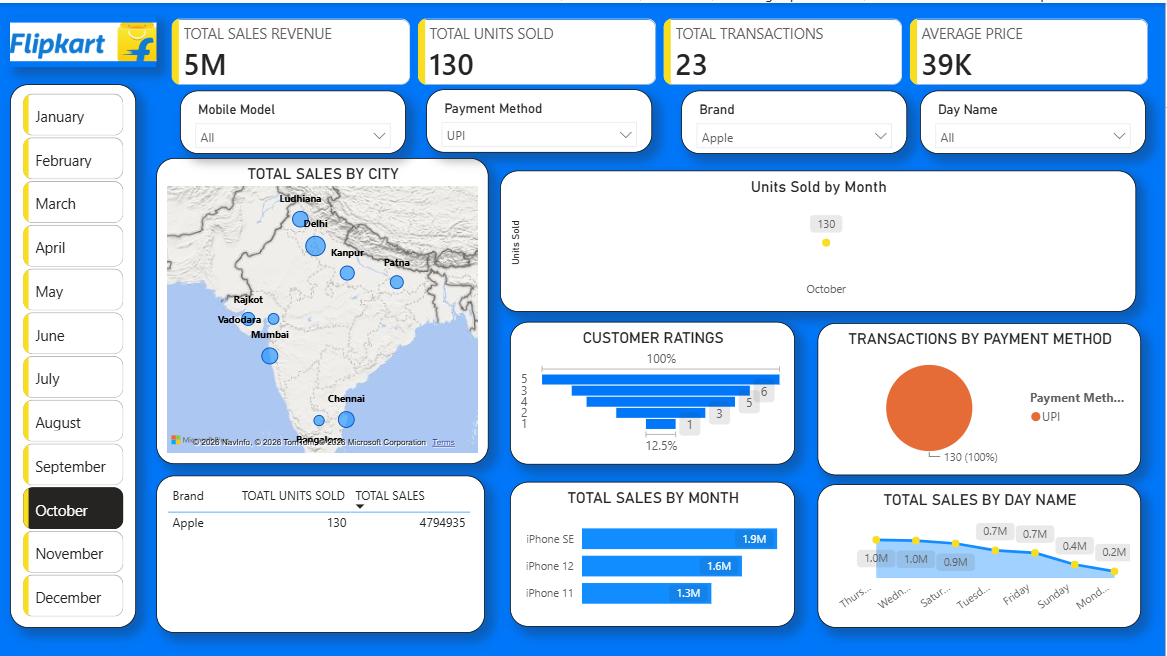

The page's visual inventory and layout, read from the dashboard file:
{"tool":"powerbi","page":{"name":"Page 1","canvas":[1280,720],"ordinal":0},"visuals":[{"type":"image","box":[11,15.1,160.5,54.9],"z":0},{"type":"shape","box":[11,89.2,138.6,596.9],"z":1000},{"type":"advancedSlicerVisual","fields":{"Values":["mobile_sales_data.Date.Variation.Date Hierarchy.Month"]},"box":[20.6,94.7,120.8,585.9],"z":2000},{"type":"cardVisual","fields":{"Data":["mobile_sales_data.total_sales","mobile_sales_data.total_units_sold","mobile_sales_data.transactions","mobile_sales_data.Average_price"]},"box":[171.5,0,1108.8,107],"z":3000},{"type":"map","title":"TOTAL SALES BY CITY","fields":{"Category":["mobile_sales_data.City"],"Size":["mobile_sales_data.total_sales"]},"box":[171.5,170.2,365,336.2],"z":4000},{"type":"lineChart","fields":{"Y":["mobile_sales_data.total_units_sold"],"Category":["mobile_sales_data.Date.Variation.Date Hierarchy.Month","mobile_sales_data.Date.Variation.Date Hierarchy.Day"]},"box":[548.9,183.9,698.5,155.1],"z":5000},{"type":"clusteredBarChart","title":"TOTAL SALES BY MONTH","fields":{"Category":["mobile_sales_data.Mobile Model"],"Y":["mobile_sales_data.total_sales"]},"box":[559.9,525.6,312.9,159.2],"z":6000},{"type":"pieChart","title":"TRANSACTIONS BY PAYMENT METHOD","fields":{"Y":["mobile_sales_data.total_units_sold"],"Category":["mobile_sales_data.Payment Method"]},"box":[897.4,351.3,355.4,167.4],"z":7000},{"type":"funnel","title":"CUSTOMER RATINGS","fields":{"Category":["mobile_sales_data.Customer Ratings"],"Y":["CountNonNull(mobile_sales_data.Customer Ratings)"]},"box":[559.9,349.9,312.9,156.4],"z":8000},{"type":"areaChart","title":"TOTAL SALES BY DAY NAME","fields":{"Y":["mobile_sales_data.total_sales"],"Category":["mobile_sales_data.Day Name"]},"box":[897.4,528.3,355.4,157.8],"z":9000},{"type":"tableEx","fields":{"Values":["mobile_sales_data.Brand","mobile_sales_data.total_units_sold","mobile_sales_data.total_sales"]},"box":[171.5,518.7,360.9,172.9],"z":10000},{"type":"slicer","fields":{"Values":["mobile_sales_data.Mobile Model"]},"box":[197.6,96.1,248.4,70],"z":11000},{"type":"slicer","fields":{"Values":["mobile_sales_data.Payment Method"]},"box":[467.9,94.7,248.4,70],"z":12000},{"type":"slicer","fields":{"Values":["mobile_sales_data.Brand"]},"box":[747.9,96.1,248.4,70],"z":13000},{"type":"slicer","fields":{"Values":["mobile_sales_data.Day Name"]},"box":[1010,96.1,248.4,70],"z":14000}]}

Visuals, with their boxes in screenshot pixels (x1, y1, x2, y2), scaled from the page's 1280x720 canvas onto the 1167x656 screenshot:
image: pyautogui.locateOnScreen(10, 14, 156, 64)
shape: pyautogui.locateOnScreen(10, 81, 136, 625)
advancedSlicerVisual - mobile_sales_data.Date.Variation.Date Hierarchy.Month: pyautogui.locateOnScreen(19, 86, 129, 620)
cardVisual - mobile_sales_data.total_sales x mobile_sales_data.total_units_sold: pyautogui.locateOnScreen(156, 0, 1166, 97)
"TOTAL SALES BY CITY" map: pyautogui.locateOnScreen(156, 155, 489, 461)
lineChart - mobile_sales_data.total_units_sold x mobile_sales_data.Date.Variation.Date Hierarchy.Month: pyautogui.locateOnScreen(500, 168, 1137, 309)
"TOTAL SALES BY MONTH" clusteredBarChart: pyautogui.locateOnScreen(510, 479, 796, 624)
"TRANSACTIONS BY PAYMENT METHOD" pieChart: pyautogui.locateOnScreen(818, 320, 1142, 473)
"CUSTOMER RATINGS" funnel: pyautogui.locateOnScreen(510, 319, 796, 461)
"TOTAL SALES BY DAY NAME" areaChart: pyautogui.locateOnScreen(818, 481, 1142, 625)
tableEx - mobile_sales_data.Brand x mobile_sales_data.total_units_sold: pyautogui.locateOnScreen(156, 473, 485, 630)
slicer - mobile_sales_data.Mobile Model: pyautogui.locateOnScreen(180, 88, 407, 151)
slicer - mobile_sales_data.Payment Method: pyautogui.locateOnScreen(427, 86, 653, 150)
slicer - mobile_sales_data.Brand: pyautogui.locateOnScreen(682, 88, 908, 151)
slicer - mobile_sales_data.Day Name: pyautogui.locateOnScreen(921, 88, 1147, 151)
